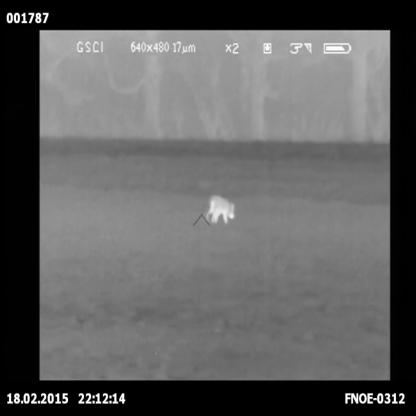rehkitze: (205, 194, 237, 229)
